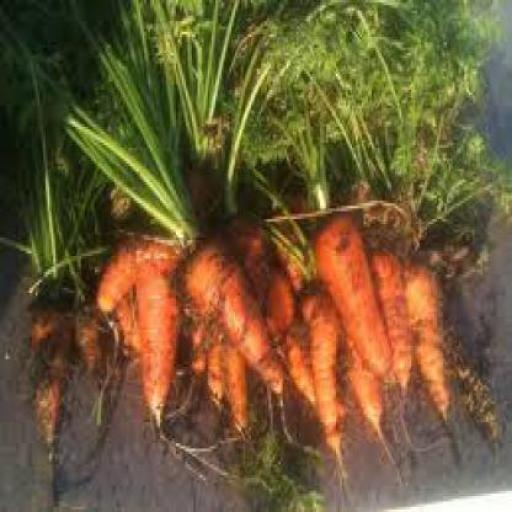biodegradable: (297, 0, 504, 251), (0, 0, 201, 246), (0, 0, 106, 304), (217, 0, 350, 214), (220, 0, 340, 212), (93, 222, 184, 424), (178, 229, 282, 401), (139, 0, 245, 161), (228, 206, 314, 398), (310, 206, 390, 375), (414, 140, 510, 238), (180, 296, 245, 434), (225, 417, 320, 510), (297, 278, 342, 464), (403, 254, 449, 420), (245, 164, 309, 267), (368, 241, 410, 393), (25, 306, 67, 456), (340, 330, 384, 433), (273, 187, 308, 295), (71, 298, 105, 367)
